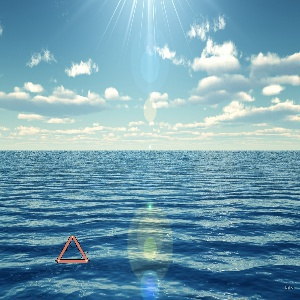triangle: (52, 231, 94, 269)
